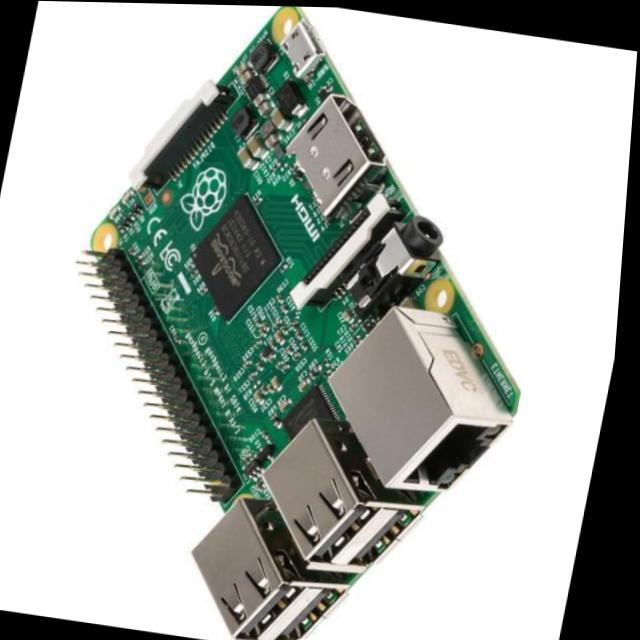Raspberry-Pi-2-B: (81, 8, 520, 640)
